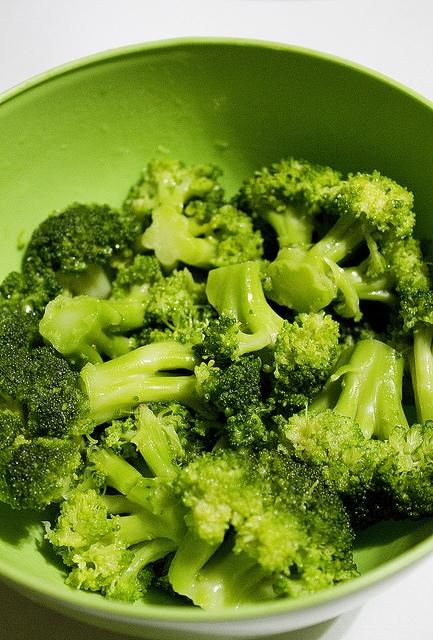broccoli: (229, 157, 432, 336), (40, 398, 206, 604), (256, 340, 433, 532), (168, 444, 362, 611), (76, 268, 224, 426), (39, 255, 162, 373), (140, 176, 264, 278), (21, 202, 144, 294), (0, 343, 96, 440), (202, 356, 276, 450), (387, 314, 433, 424), (75, 431, 144, 498), (240, 260, 286, 350), (0, 308, 43, 350)
